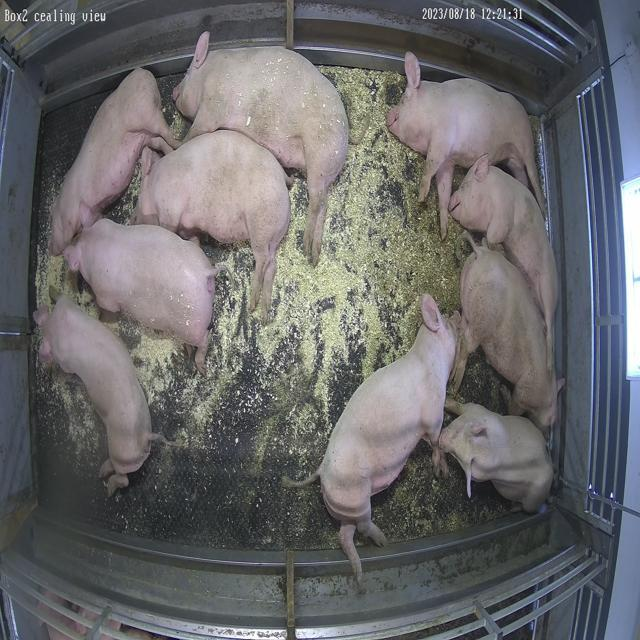Dirt: (372, 443, 513, 544), (396, 160, 472, 314), (455, 350, 513, 416)
Pig: (286, 295, 458, 582), (173, 31, 349, 264), (133, 130, 290, 320), (388, 52, 544, 238), (34, 296, 160, 496), (48, 69, 179, 254), (63, 219, 219, 374), (450, 155, 559, 354), (453, 233, 557, 430), (440, 401, 555, 514)
